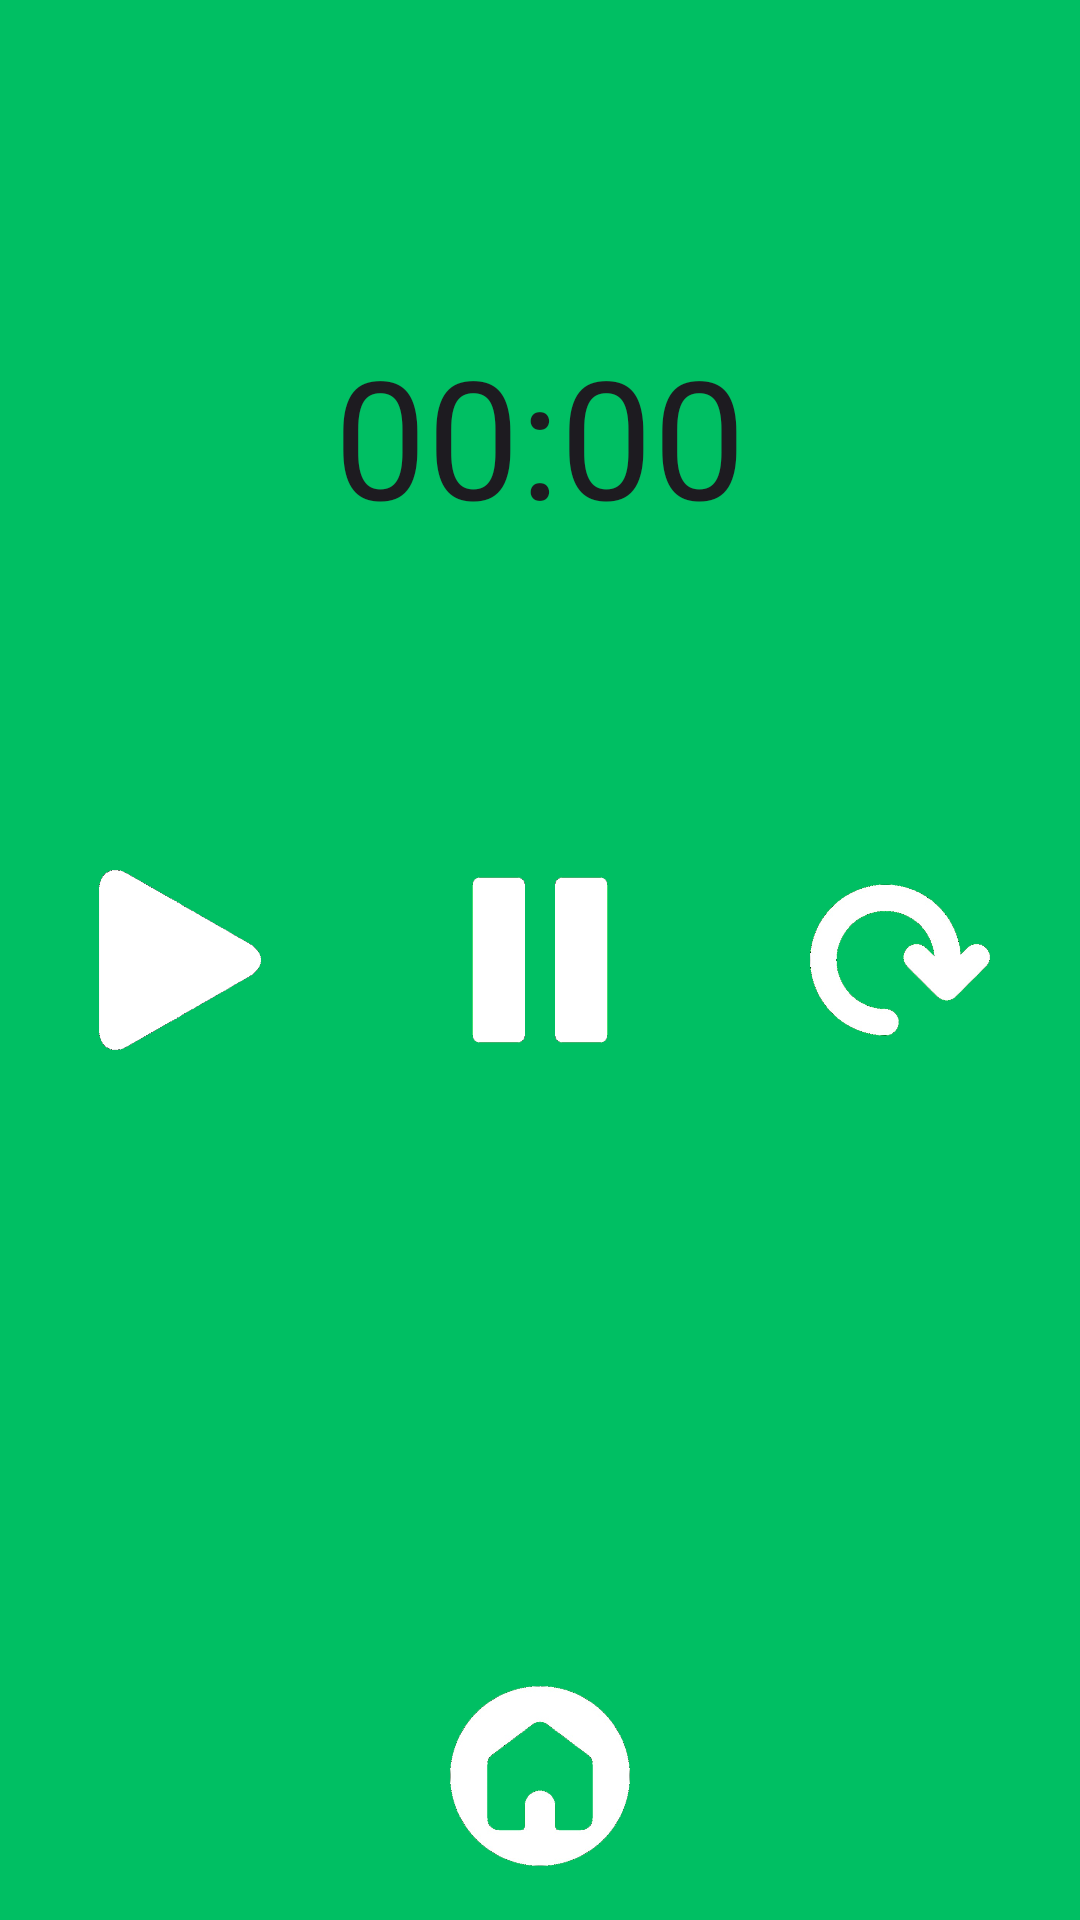

Screen size 1080x1920. Icon name, then its box in pixels as bbox=[x1, y1, x2, y2]:
home: bbox=[450, 1686, 630, 1866]
pause: bbox=[472, 877, 608, 1043]
reset: bbox=[810, 884, 990, 1036]
start: bbox=[99, 870, 261, 1050]
